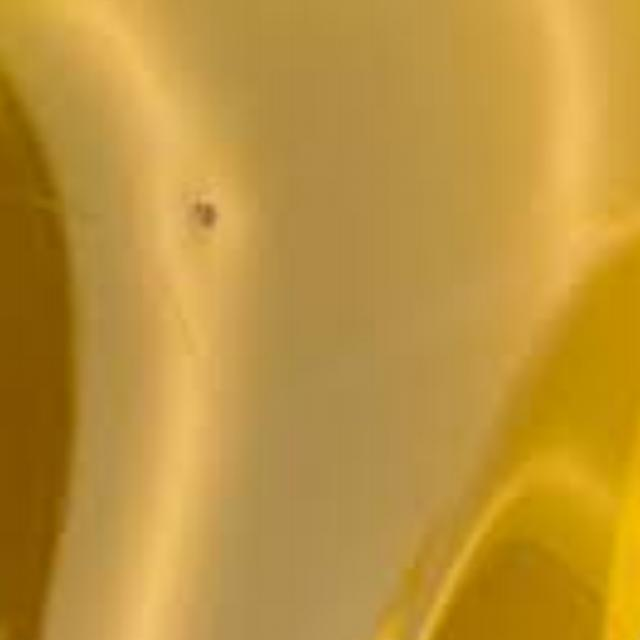dents: (154, 177, 274, 261)
